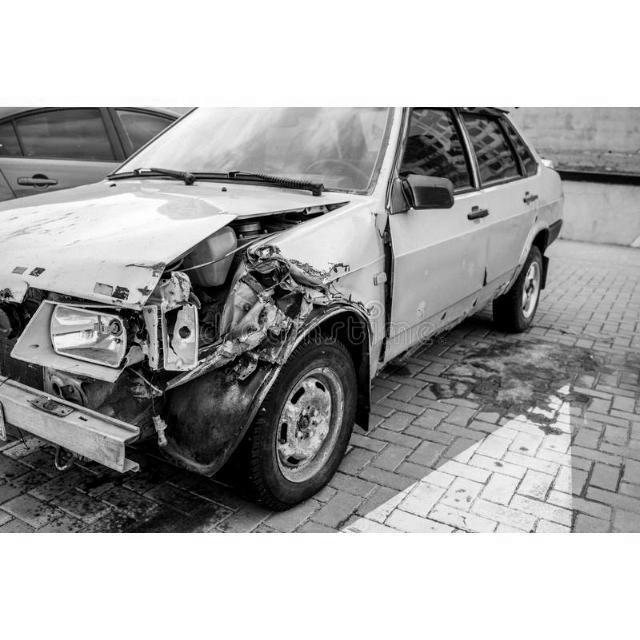bonnet-dent: (2, 162, 343, 306)
doorouter-dent: (385, 195, 490, 337)
